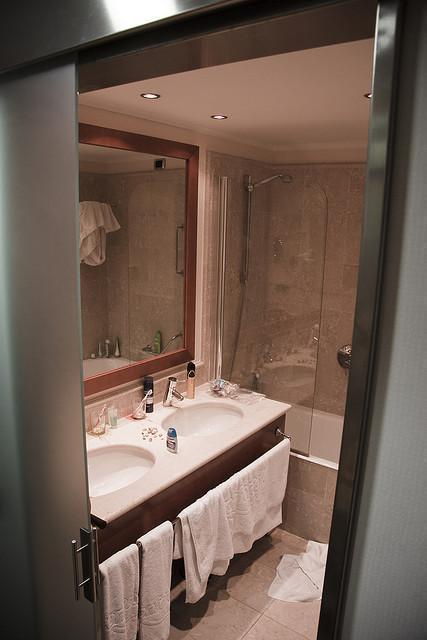Ducha: (223, 155, 424, 545)
Lavamanos: (59, 402, 161, 506), (155, 367, 252, 446)
